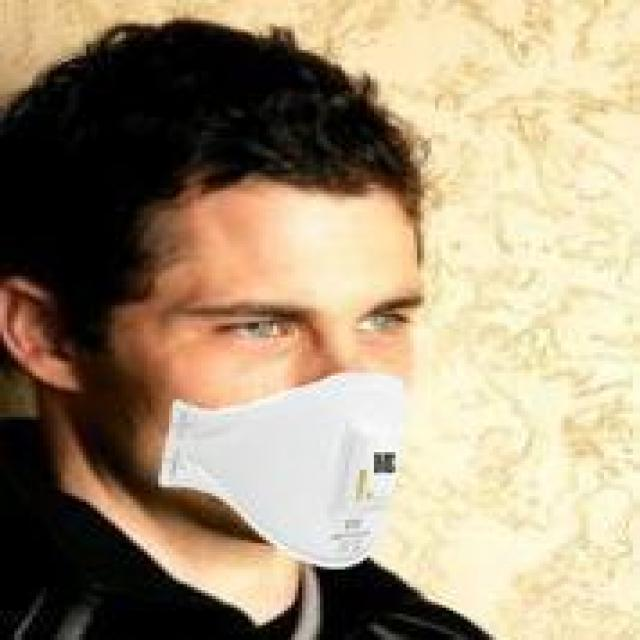mask: (18, 62, 493, 596)
